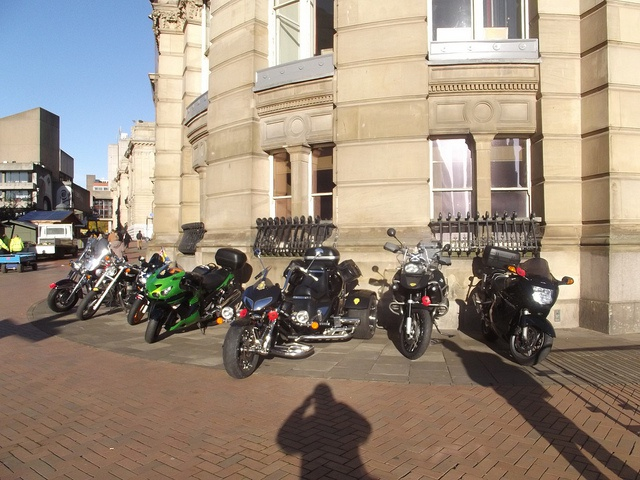non-vehicle: (222, 240, 377, 379), (464, 246, 574, 366), (144, 247, 251, 344), (379, 227, 450, 360), (47, 236, 121, 312), (76, 253, 136, 320), (127, 253, 181, 325)
